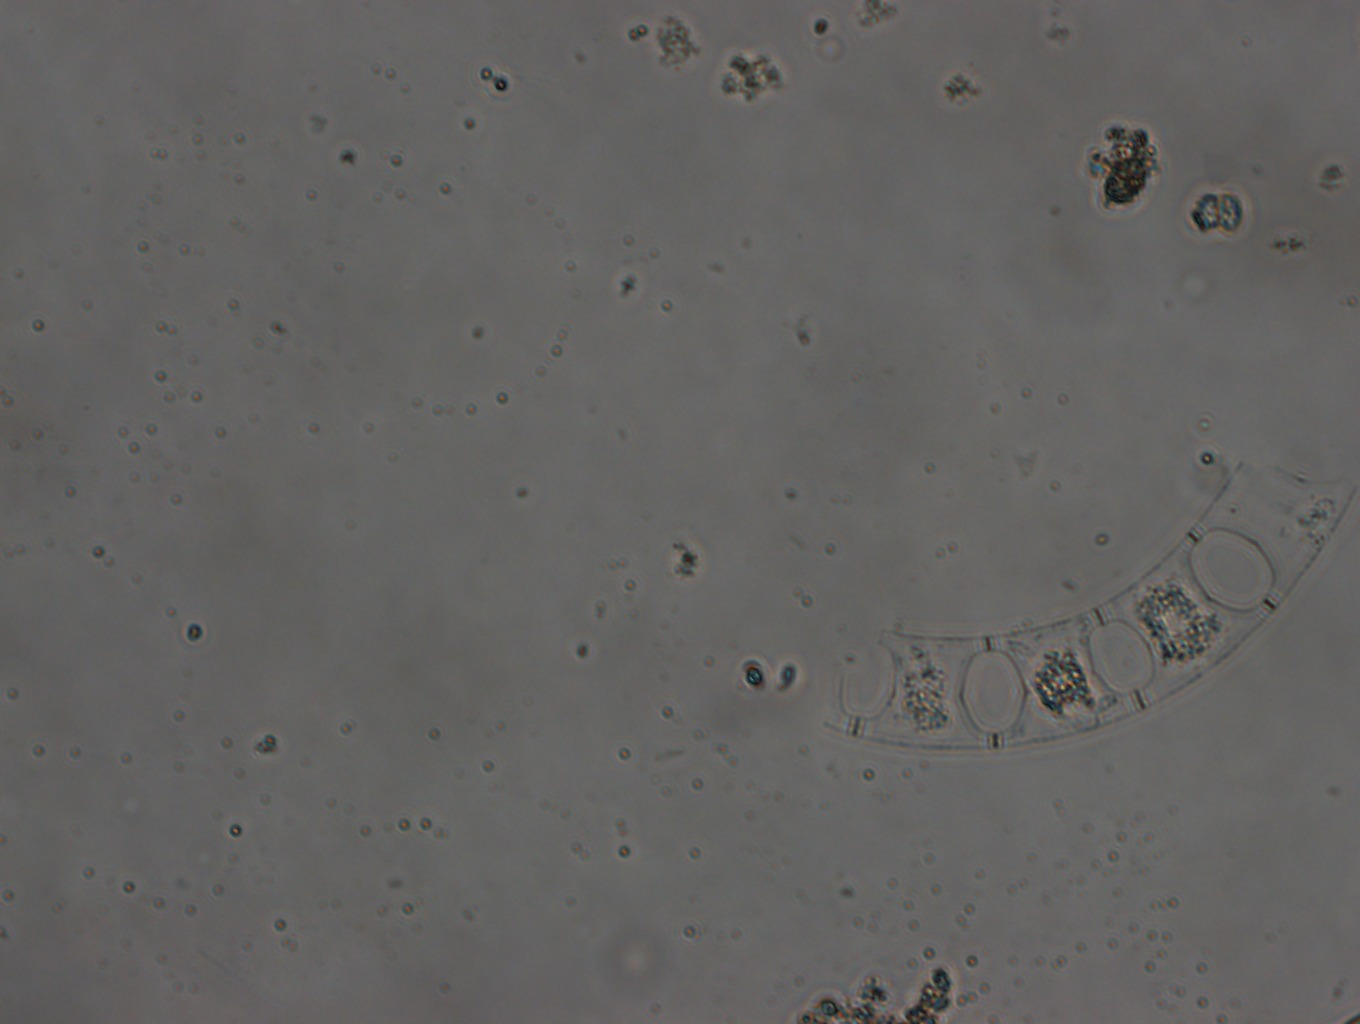eucampia: (819, 465, 1355, 751)
